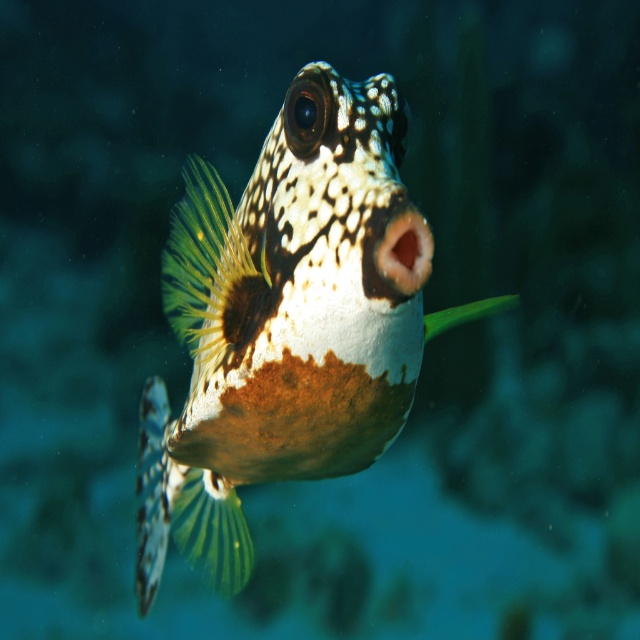Fish: (137, 59, 518, 626)
